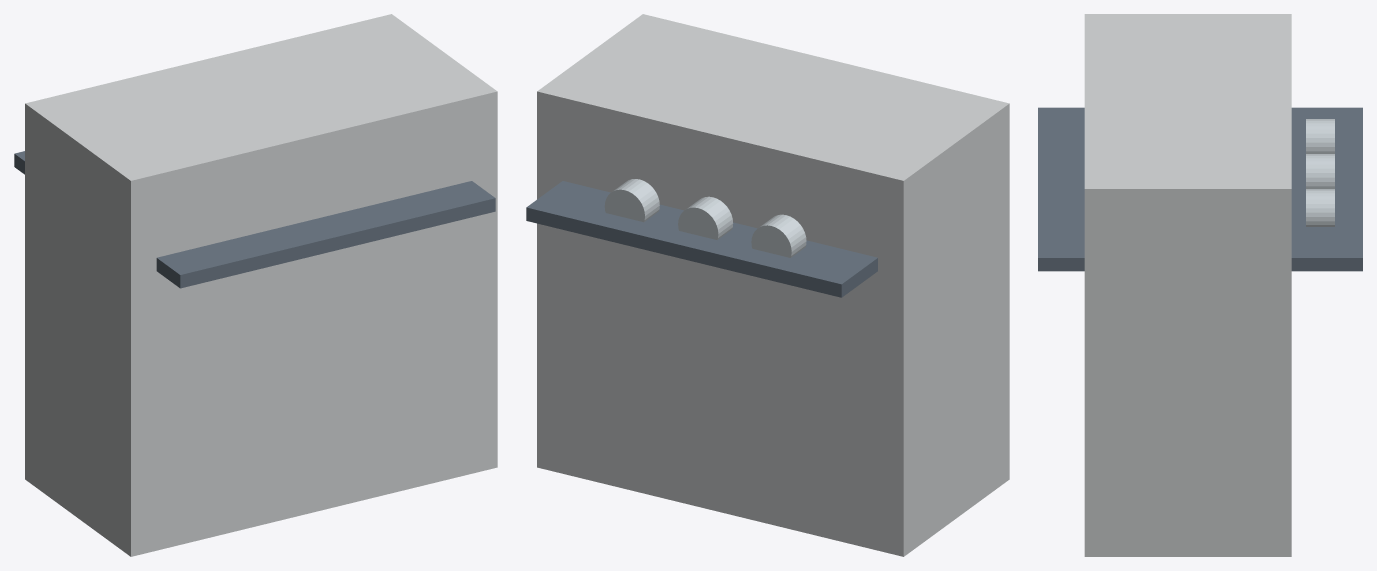
The model's file is psu_three.glb.
3 renders of one model, left to right at view 1: azimuth 30°, elevation 25°; view 2: azimuth 150°, elevation 25°; view 3: azimuth 270°, elevation 25°, orthographic. The views are drawn at different scales.
Parts seen in each view (by area): view 1: psu_three_0, psu_three_1; view 2: psu_three_0, psu_three_1, psu_three_4, psu_three_6, psu_three_5; view 3: psu_three_0, psu_three_1, psu_three_6, psu_three_4, psu_three_5.
Part boxes in pixels (x1,y1,x2,y2): psu_three_0: (25,14,497,556); psu_three_1: (14,151,495,288); psu_three_0: (537,14,1009,556); psu_three_1: (526,181,877,297); psu_three_4: (751,214,806,257); psu_three_6: (604,179,659,222); psu_three_5: (678,196,733,239); psu_three_0: (1084,14,1291,556); psu_three_1: (1038,107,1362,271); psu_three_6: (1306,189,1334,226); psu_three_4: (1306,119,1334,153); psu_three_5: (1306,154,1334,188).
Bounding box in the file's own units: 1 × 0.98 × 0.784.
